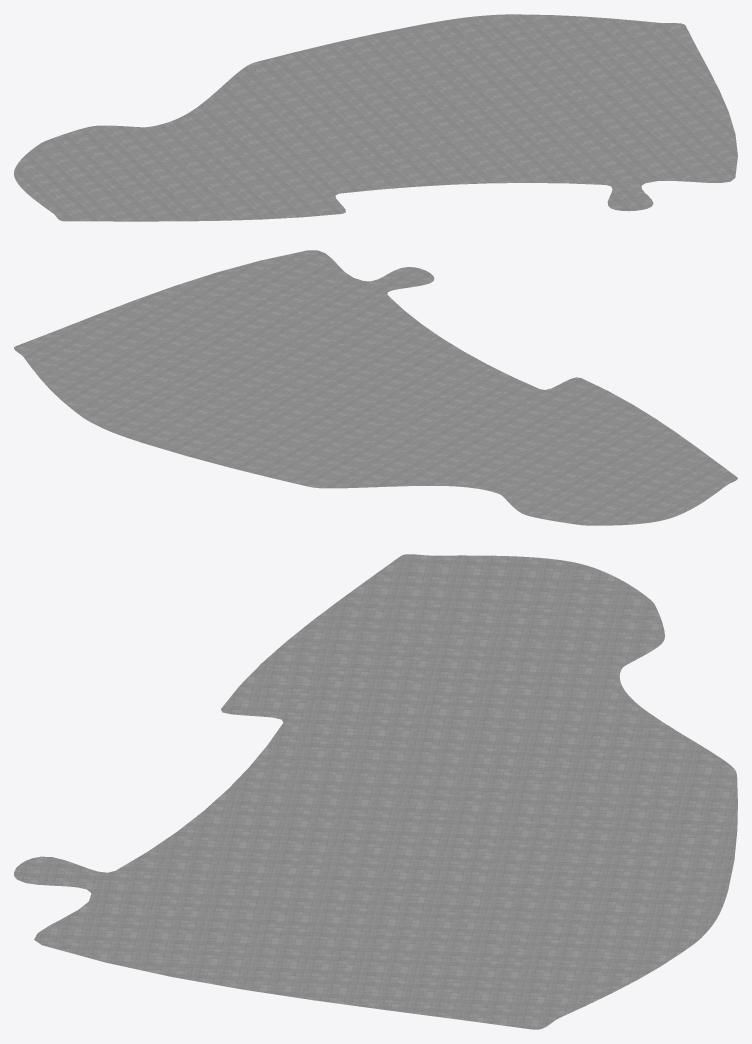
The picture shows the model from 3 angles, top to bottom: view 1: azimuth 30°, elevation 25°; view 2: azimuth 150°, elevation 25°; view 3: azimuth 270°, elevation 25°; orthographic projection. The views are drawn at different scales.
Parts seen in each view (by area): view 1: 图形001; view 2: 图形001; view 3: 图形001.
Boxes of the visible parts, x1,y1,x2,y2 form: 图形001: [14, 14, 737, 221]; 图形001: [14, 250, 737, 525]; 图形001: [14, 554, 737, 1029].
Bounding box in the file's own units: 33096 × 9.54e-06 × 21294.
Materials: 1 (1 with a texture image).
